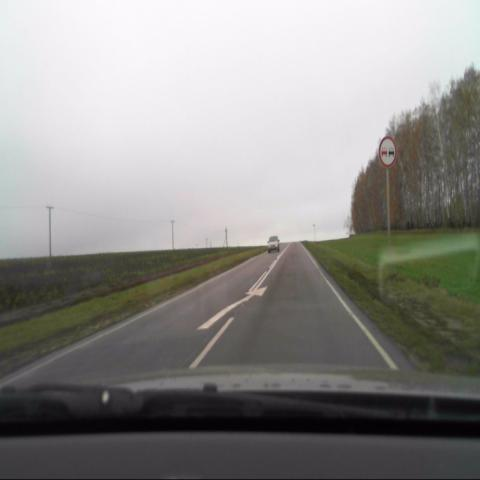3_20: (379, 134, 396, 168)
